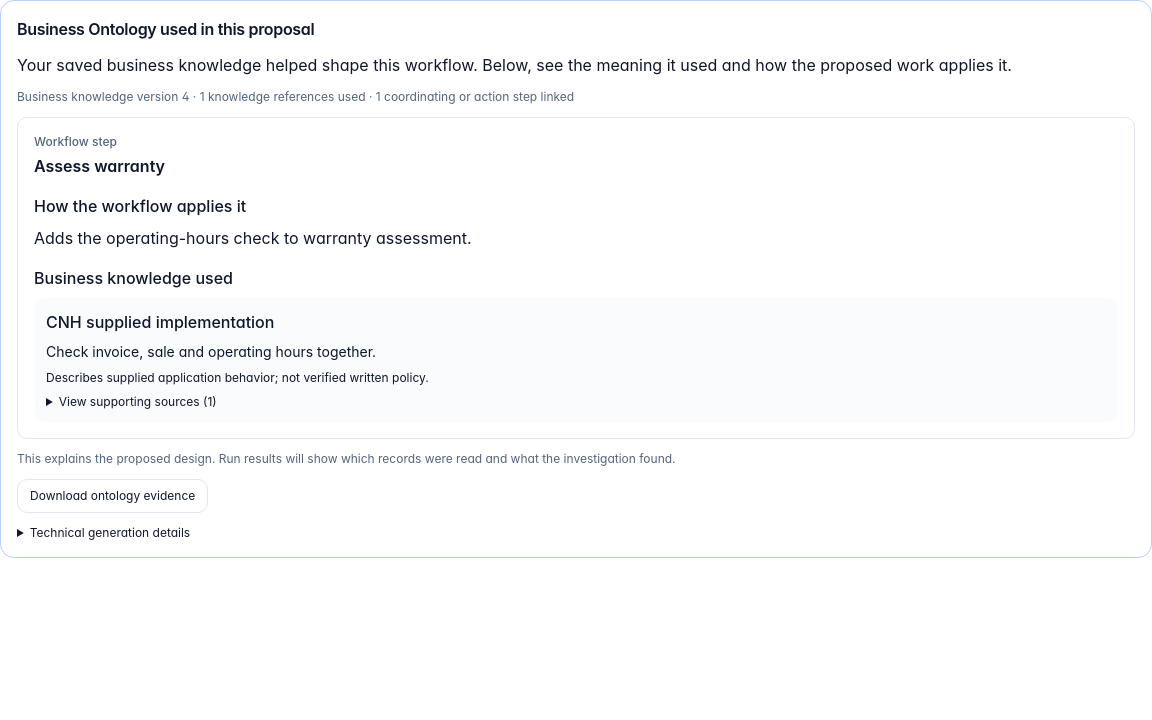
it: shows step-level evidence and distinguishes application code from policy
expect the text "Business knowledge version 4" is shown: met, box 17,89 -> 574,104
expect the heading "Assess warranty" is shown: met, box 34,156 -> 165,176
Click the heading "View supporting sources (1)": (138, 402) 59,394 -> 217,409
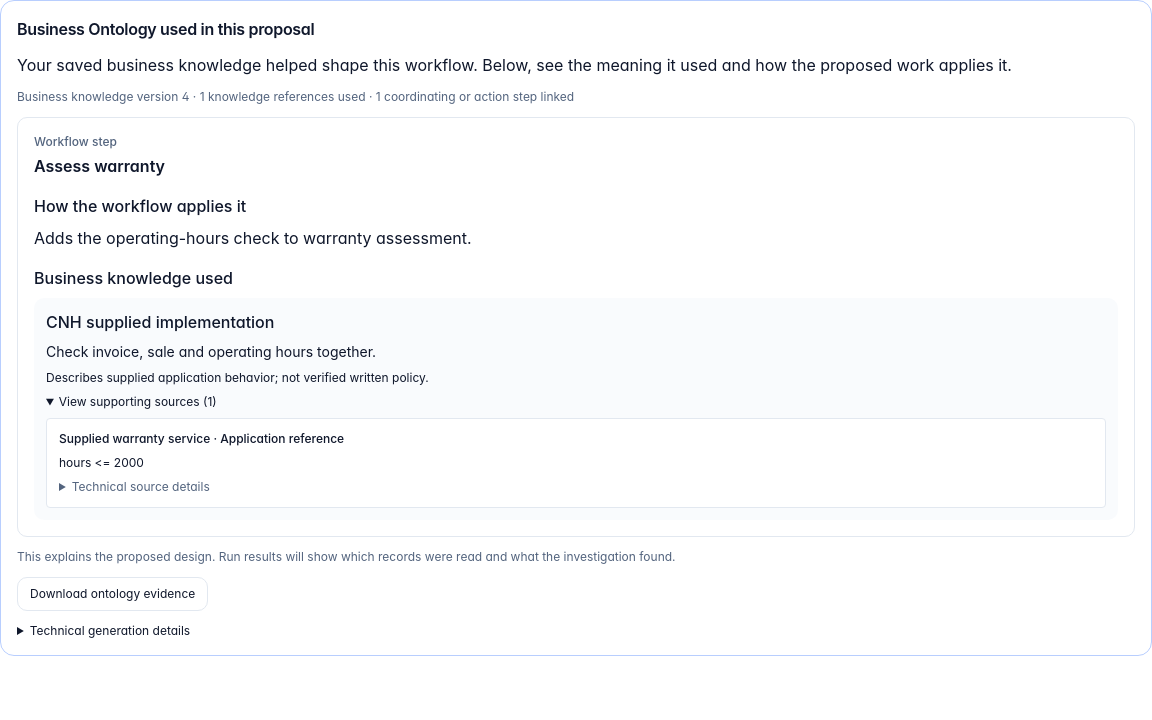
expect the text "not verified written policy" is shown: met, box 46,370 -> 429,385
expect the text "hours <= 2000" is shown: met, box 59,455 -> 144,470
